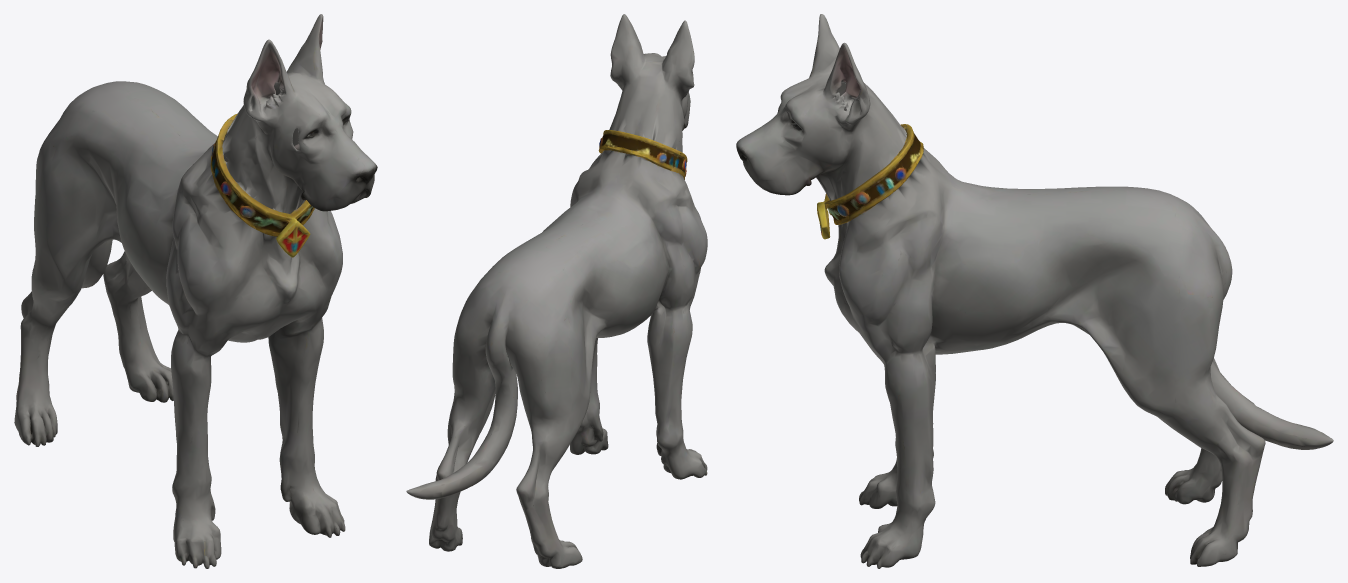
Rendered from detail_13.glb.
3 views of the same model, side by side, from view 1: azimuth 30°, elevation 25°; view 2: azimuth 150°, elevation 25°; view 3: azimuth 270°, elevation 25° (orthographic). The views are drawn at different scales.
Size of the model in its own units: 0.3159 by 0.9381 by 1.
Materials: 1 (1 with a texture image).
